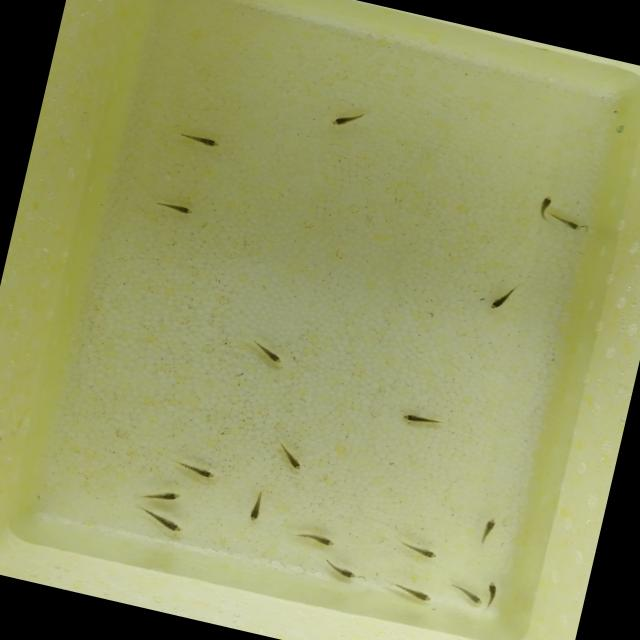fingerling: (294, 526, 344, 552), (389, 579, 438, 605), (319, 556, 362, 584), (146, 511, 192, 536), (185, 128, 222, 156), (180, 462, 229, 483), (484, 284, 516, 316), (396, 407, 440, 430), (394, 540, 444, 560), (274, 445, 308, 474), (324, 106, 359, 134), (542, 211, 584, 234), (252, 341, 286, 366), (474, 513, 503, 542), (162, 198, 200, 220), (148, 487, 190, 506), (241, 497, 267, 524), (459, 586, 485, 606), (483, 576, 503, 602), (534, 192, 556, 212)
